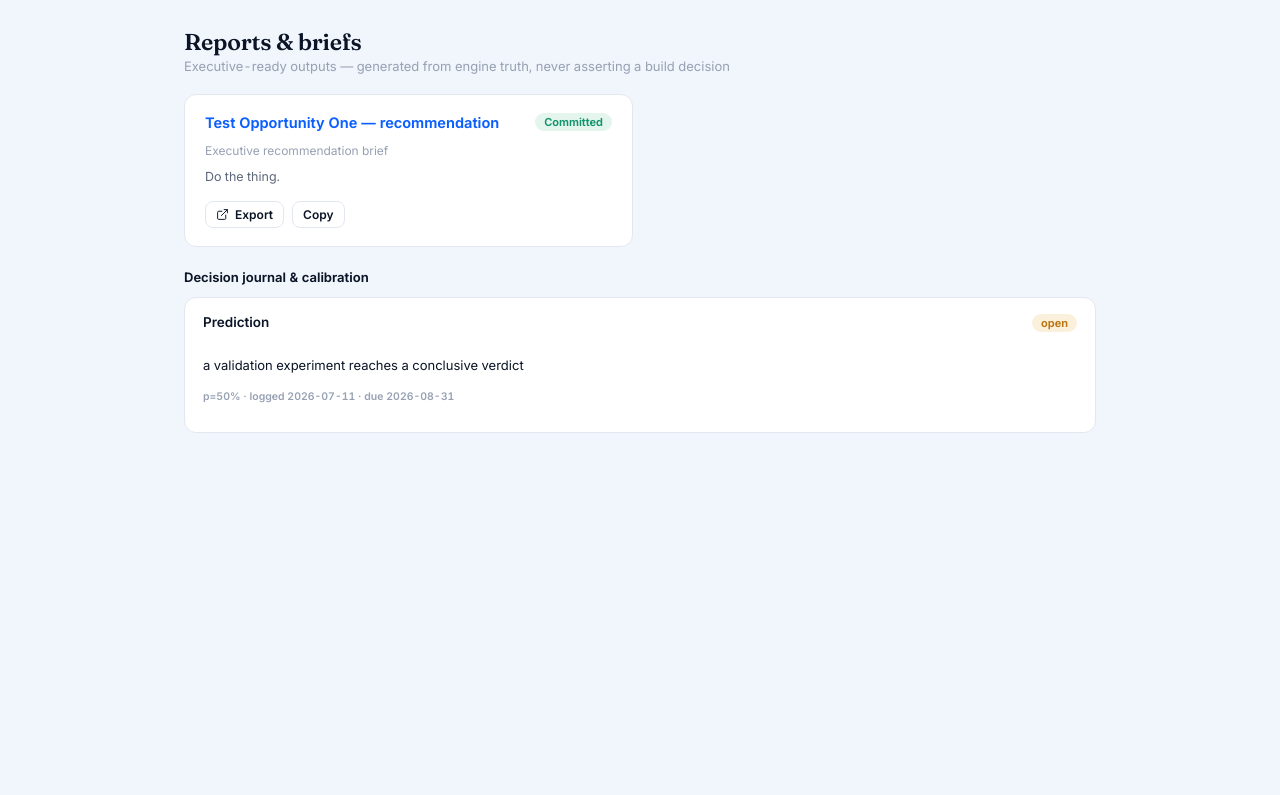
Test case: Web report route (Phase 4) › a report title in Reports & Briefs is a button that opens /report/OPP-001
Click the button with aria-label "Open web report: Test Opportunity One". click: (352, 123)
box: [205,113,499,133]
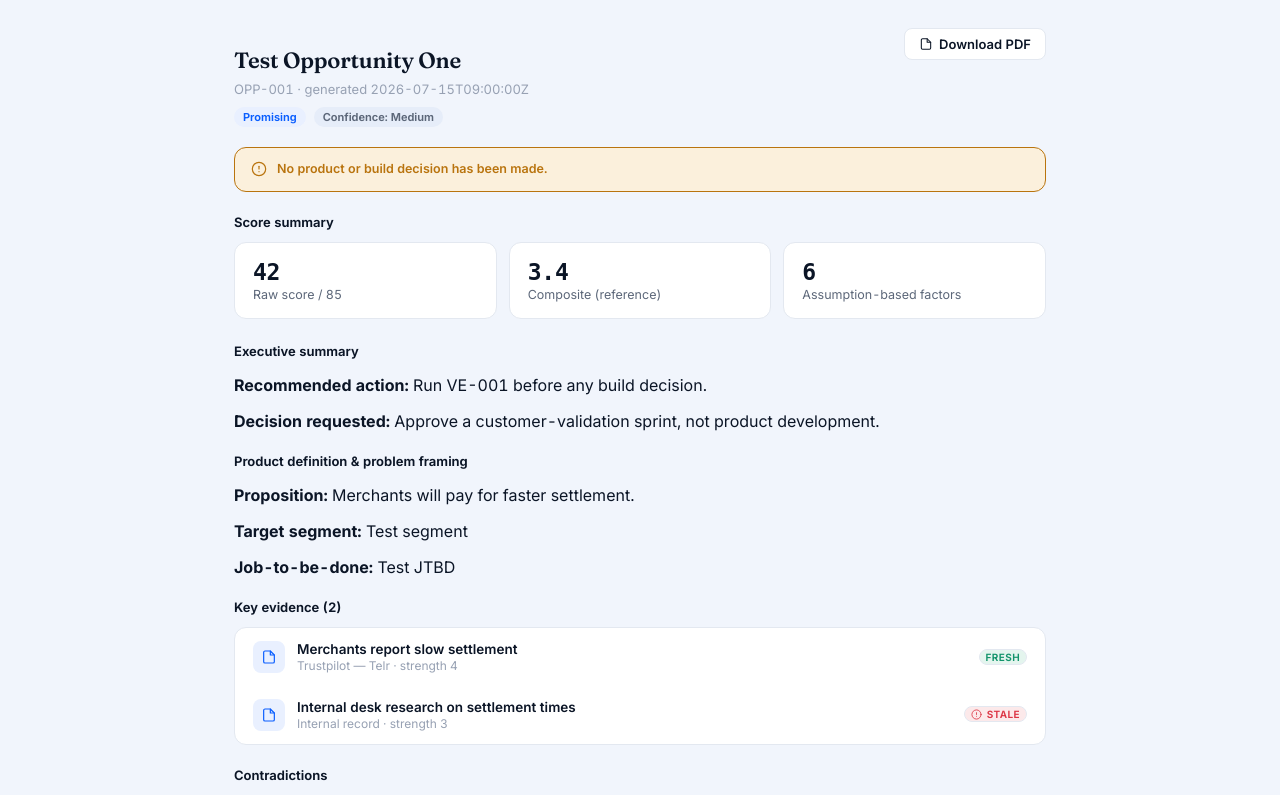
Now the heading with test id "report-title" reads "Test Opportunity One", box [234,46,461,74]
